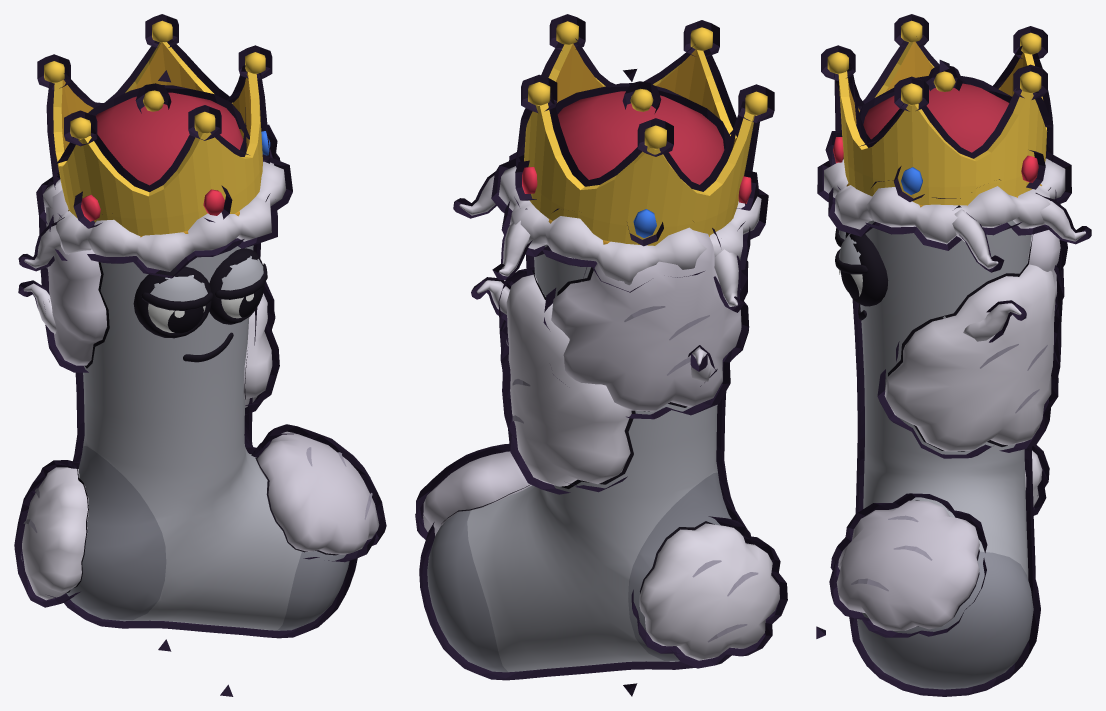
The model's file is Lintlord_R.glb.
3 views of the same model, side by side, from view 1: azimuth 30°, elevation 25°; view 2: azimuth 150°, elevation 25°; view 3: azimuth 270°, elevation 25° (orthographic). The views are drawn at different scales.
Visible parts, largest first — view 1: Lintlord_R, Lintlord_R_Outline; view 2: Lintlord_R, Lintlord_R_Outline; view 3: Lintlord_R, Lintlord_R_Outline.
Part boxes in pixels (left/top/right/bottom): Lintlord_R: left=21, top=20, right=379, bottom=630; Lintlord_R_Outline: left=14, top=14, right=386, bottom=638; Lintlord_R: left=423, top=21, right=779, bottom=672; Lintlord_R_Outline: left=415, top=14, right=787, bottom=680; Lintlord_R: left=824, top=20, right=1085, bottom=689; Lintlord_R_Outline: left=817, top=14, right=1091, bottom=696.
Bounding box in the file's own units: 3.12 × 5.35 × 2.23.
1 material, 1 textured.
